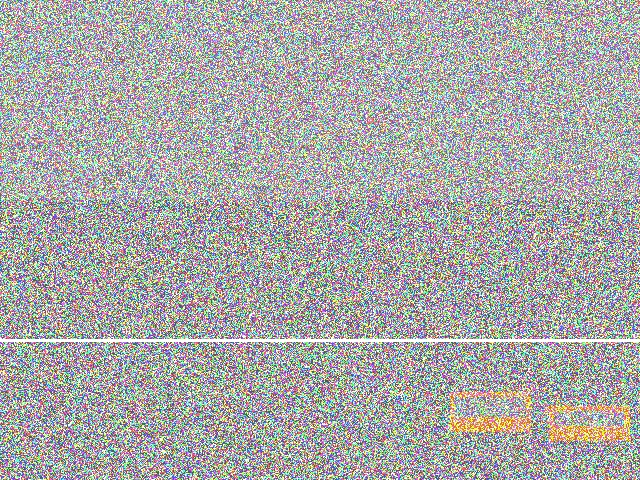bus: (69, 209, 224, 314)
car: (367, 107, 436, 245)
